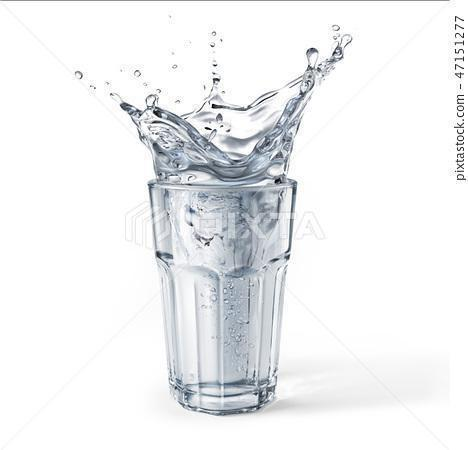glass-normal: (144, 177, 299, 415)
